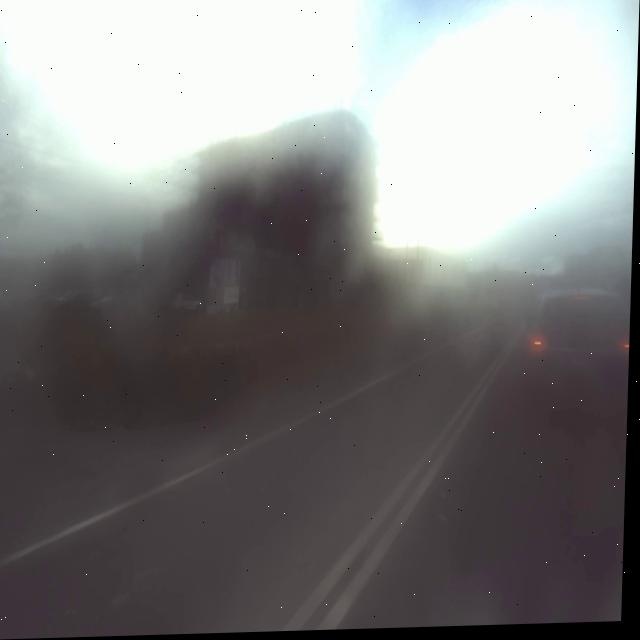car: (529, 280, 633, 421)
